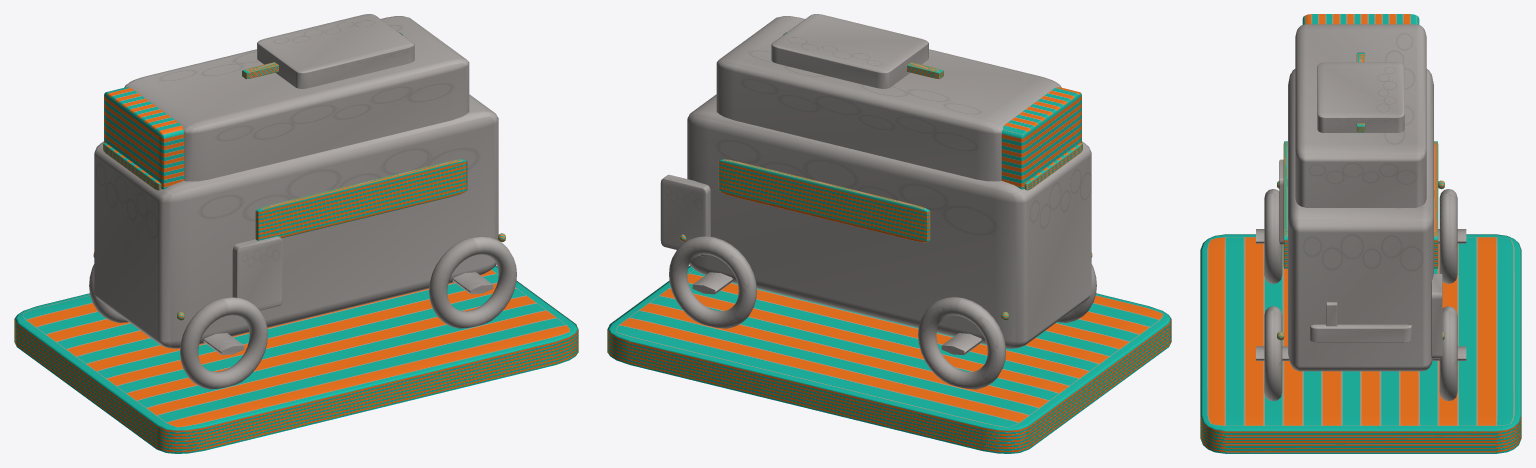
File: Low-Poly_Double-Decker_Bus_Game-Ready_Stylized.glb
3 views of the same model, side by side, from view 1: azimuth 30°, elevation 25°; view 2: azimuth 150°, elevation 25°; view 3: azimuth 270°, elevation 25° (orthographic). The views are drawn at different scales.
Parts seen in each view (by area): view 1: unnamed (×12); view 2: unnamed (×12); view 3: unnamed (×14).
Part boxes in pixels (x1,y1,x2,y2): unnamed (×12): (14,14,578,453); unnamed (×12): (607,14,1171,453); unnamed (×14): (1200,14,1521,453).
Size of what is drawn, in the model's own units: 3.2 by 2.17 by 2.2.
3 materials, 3 textured.
